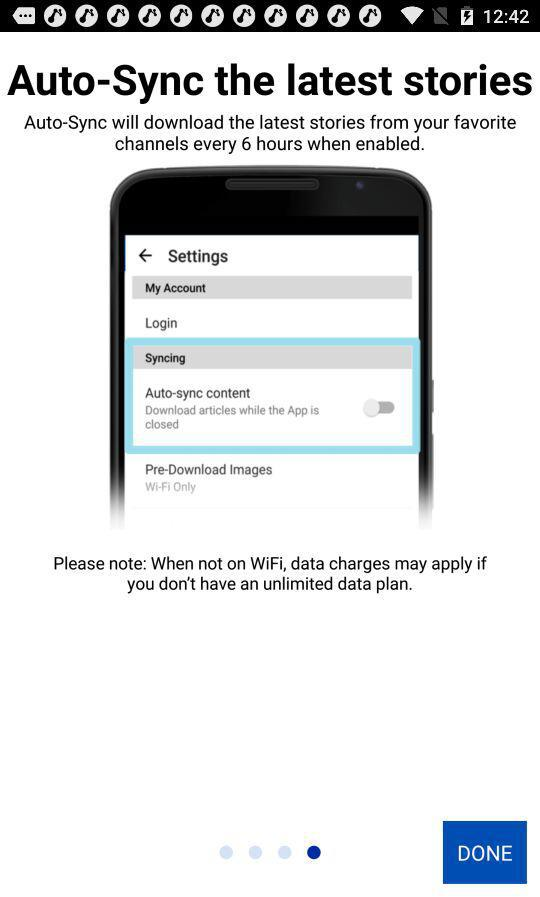Image: (109, 165, 436, 531)
PageIndicator: (219, 844, 323, 861)
Text: (8, 63, 533, 106), (24, 114, 517, 156), (54, 555, 488, 595)
TextButton: (443, 821, 527, 884)
UpperTaskBar: (1, 1, 540, 33)
